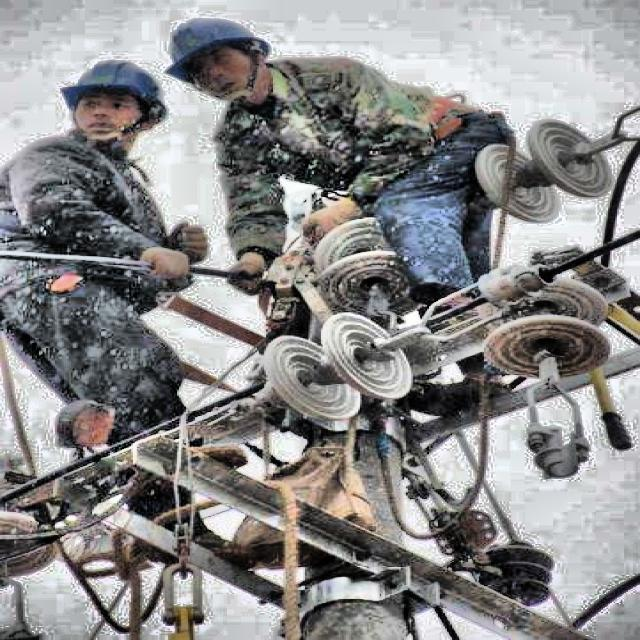helmet: (54, 45, 184, 148), (156, 8, 285, 111)
